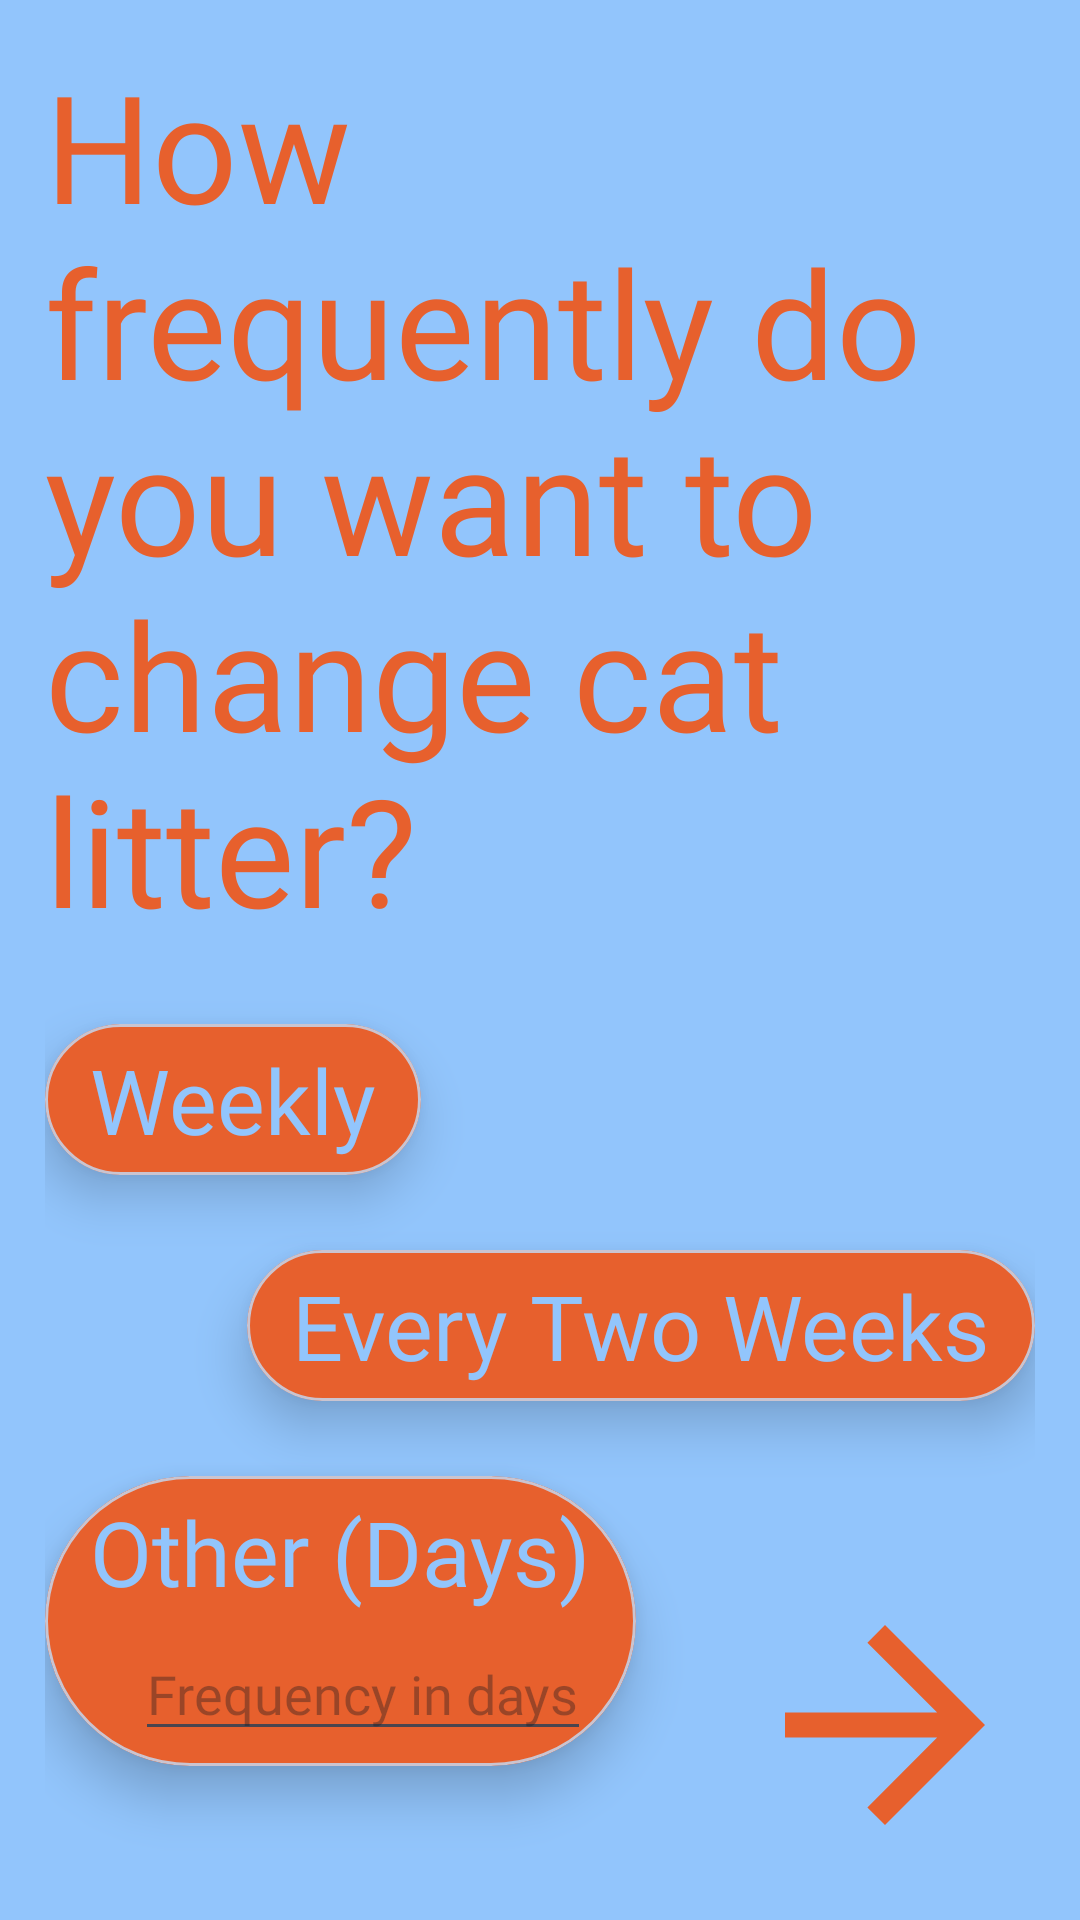

Locate icon controls on the screen. Image size 1080x1920, boxes as (x1, y1, x2, y2).
arrow forward: (785, 1625, 985, 1825)
